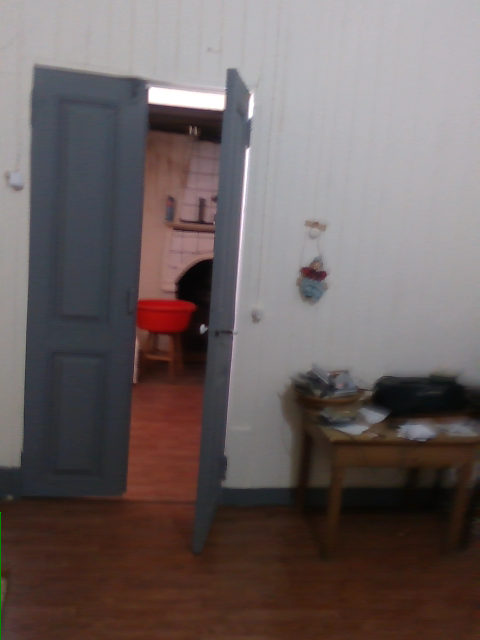semi: (19, 67, 251, 557)
